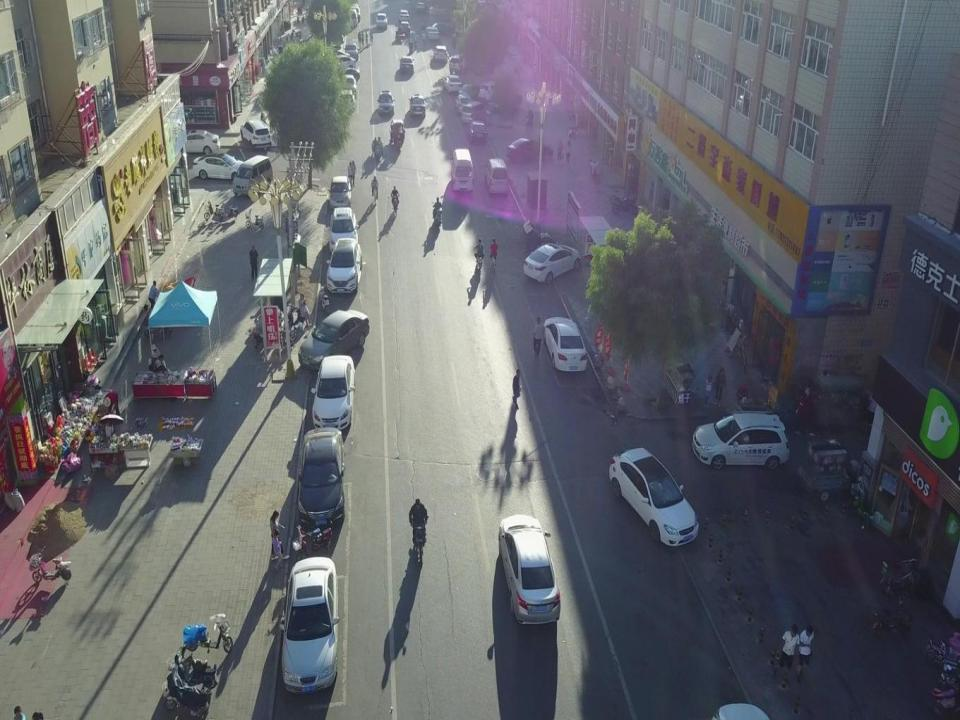car: (608, 446, 700, 547), (279, 556, 339, 695), (498, 515, 561, 626), (691, 411, 791, 469), (297, 426, 347, 524), (298, 308, 370, 371), (311, 354, 355, 432), (542, 316, 588, 373), (522, 243, 582, 284), (326, 238, 362, 294), (192, 151, 247, 180), (329, 206, 359, 252), (505, 135, 554, 163), (176, 129, 220, 154), (240, 118, 272, 150), (329, 176, 352, 210), (318, 90, 355, 110), (325, 74, 357, 94), (479, 80, 506, 102), (324, 55, 356, 72), (320, 49, 351, 66), (330, 67, 360, 84), (448, 54, 472, 74), (377, 90, 395, 116), (408, 93, 426, 118), (468, 121, 488, 142), (459, 82, 480, 102), (425, 22, 454, 36), (442, 74, 462, 94), (454, 92, 472, 114), (398, 56, 415, 74), (433, 45, 449, 64), (344, 42, 358, 61), (376, 12, 388, 29), (428, 26, 440, 42), (348, 6, 360, 22), (399, 21, 410, 35), (398, 10, 409, 22)
van: (232, 154, 272, 196), (450, 148, 474, 191), (484, 158, 510, 196), (461, 101, 487, 124), (345, 8, 358, 28)
